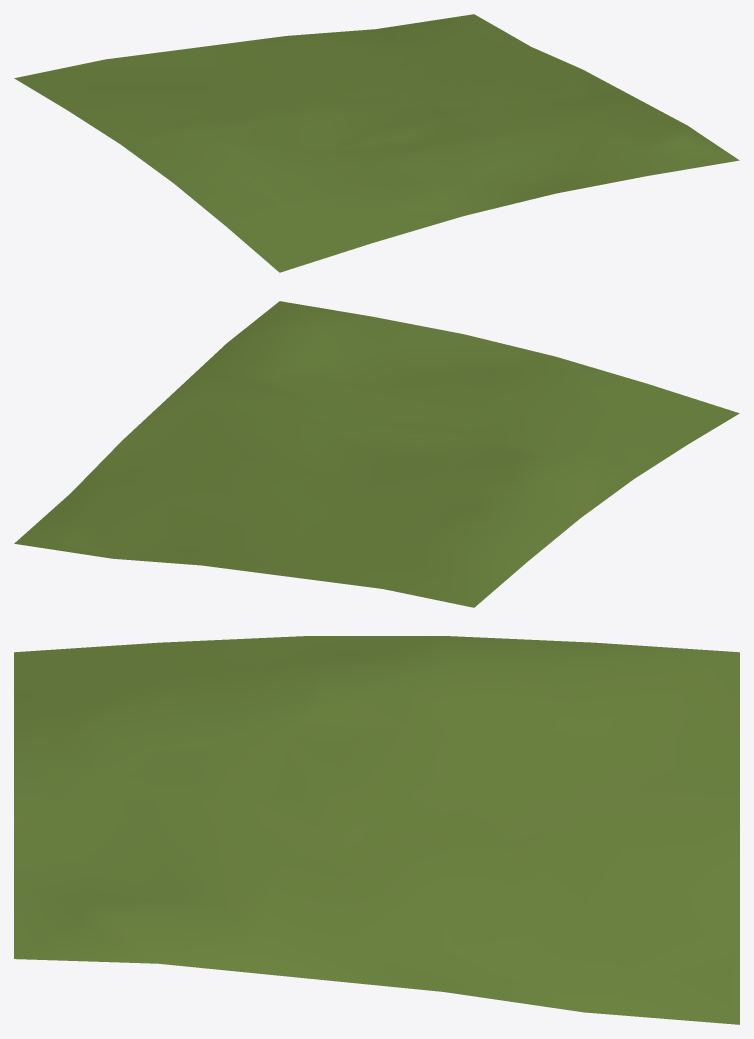
File: rpgpp_ag_terrain_hill_01c_10x10m.fbx
3 renders of one model, top to bottom at view 1: azimuth 30°, elevation 25°; view 2: azimuth 150°, elevation 25°; view 3: azimuth 270°, elevation 25°, orthographic. The views are drawn at different scales.
Visible parts, largest first — view 1: rpgpp_ag_terrain_hill_01c_10x10m; view 2: rpgpp_ag_terrain_hill_01c_10x10m; view 3: rpgpp_ag_terrain_hill_01c_10x10m.
Part boxes in pixels (box(x1,y1,x2,y2)): rpgpp_ag_terrain_hill_01c_10x10m: box(14, 14, 739, 272); rpgpp_ag_terrain_hill_01c_10x10m: box(14, 301, 739, 607); rpgpp_ag_terrain_hill_01c_10x10m: box(14, 636, 739, 1024).
Bounding box in the file's own units: 10 × 1.45 × 10.
